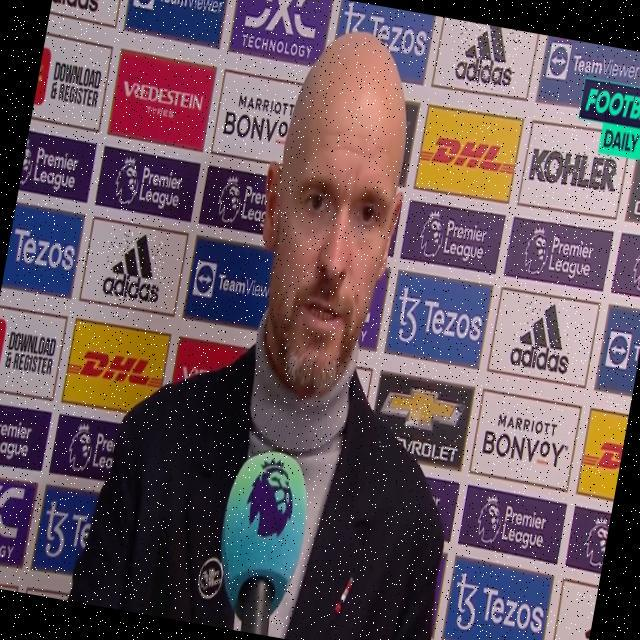Adidas: (508, 295, 580, 378), (100, 227, 169, 307), (452, 21, 522, 93)
Chevrolet: (373, 376, 469, 465)
Kohler: (526, 141, 619, 195)
TeamViewer: (546, 42, 640, 92), (131, 0, 226, 22)
